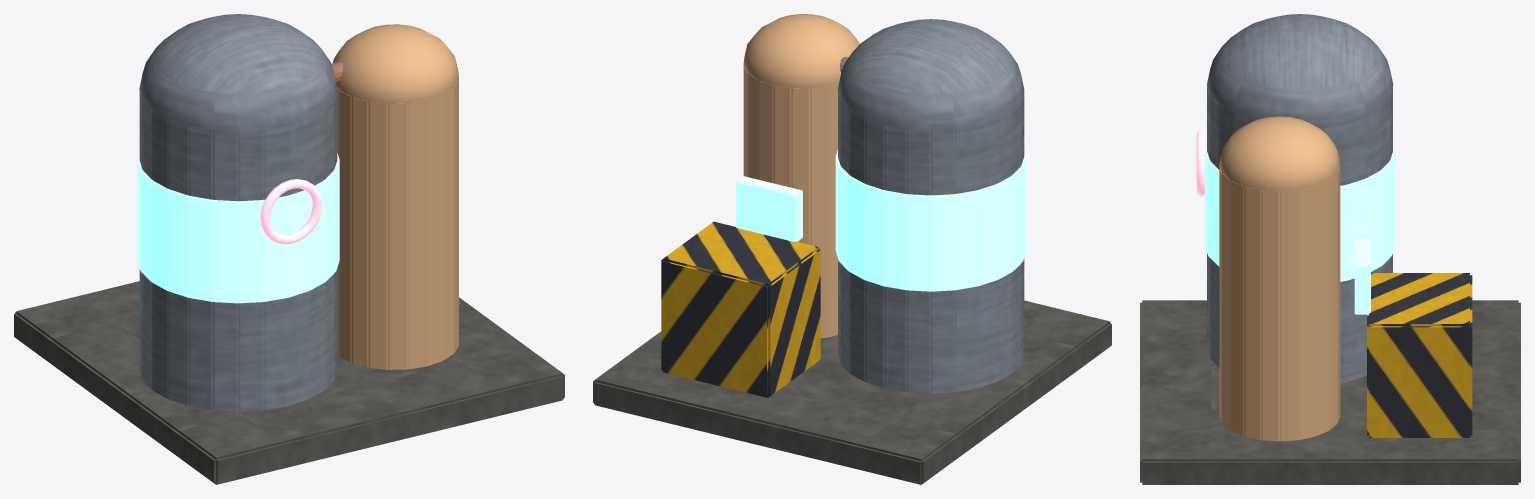
The model's file is fac_water_purifier.glb.
3 renders of one model, left to right at view 1: azimuth 30°, elevation 25°; view 2: azimuth 150°, elevation 25°; view 3: azimuth 270°, elevation 25°, orthographic. The views are drawn at different scales.
Visible parts, largest first — view 1: fac_water_purifier; view 2: fac_water_purifier; view 3: fac_water_purifier.
Boxes of the visible parts, x1,y1,x2,y2 form: fac_water_purifier: (14,14,564,484); fac_water_purifier: (593,14,1111,484); fac_water_purifier: (1140,14,1520,484).
Size of the model in its own units: 1.88 by 1.9 by 1.88.
7 materials, 4 textured.
